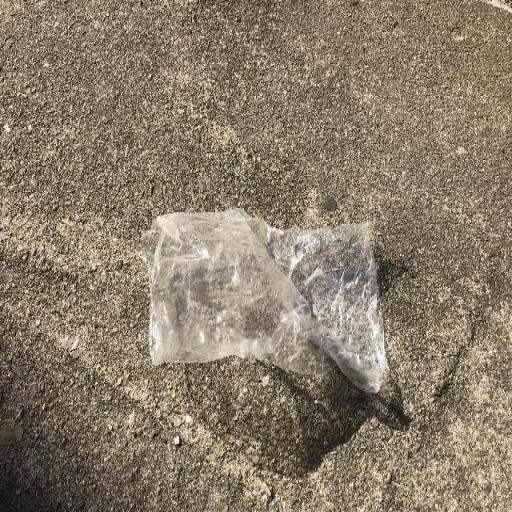plastic-bag: (142, 200, 388, 400)
